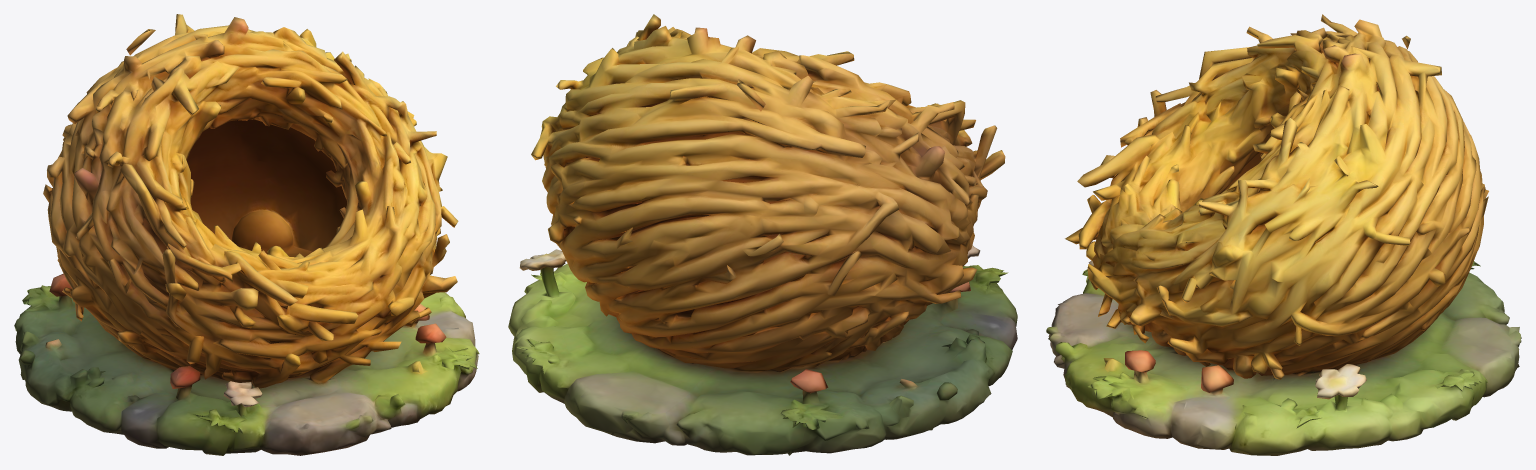
Rendered from nest.glb.
3 views of the same model, side by side, from view 1: azimuth 30°, elevation 25°; view 2: azimuth 150°, elevation 25°; view 3: azimuth 270°, elevation 25° (orthographic). The views are drawn at different scales.
Parts seen in each view (by area): view 1: tripo_node_da634be4-41bd-4e55-8ccd-2a8408705b85; view 2: tripo_node_da634be4-41bd-4e55-8ccd-2a8408705b85; view 3: tripo_node_da634be4-41bd-4e55-8ccd-2a8408705b85.
Boxes of the visible parts, x1,y1,x2,y2 form: tripo_node_da634be4-41bd-4e55-8ccd-2a8408705b85: [14, 14, 479, 455]; tripo_node_da634be4-41bd-4e55-8ccd-2a8408705b85: [508, 14, 1017, 455]; tripo_node_da634be4-41bd-4e55-8ccd-2a8408705b85: [1046, 14, 1521, 455].
Size of the model in its own units: 1 by 0.7372 by 0.9966.
1 material, 1 textured.
